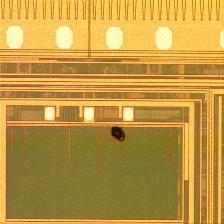PARTICLE: (109, 125, 129, 145)
